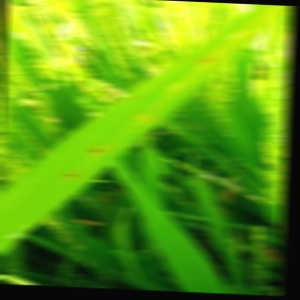Bacterial_Leaf_Blight: (201, 54, 216, 66), (91, 144, 105, 156), (65, 170, 79, 182), (145, 114, 158, 125), (127, 94, 140, 105)
